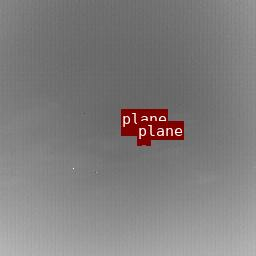plane: (121, 128, 137, 135), (137, 140, 150, 144)
